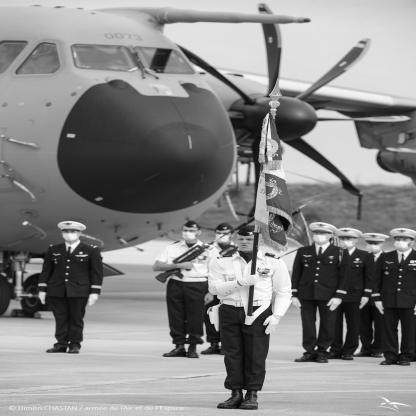A400M: (1, 4, 416, 319)
